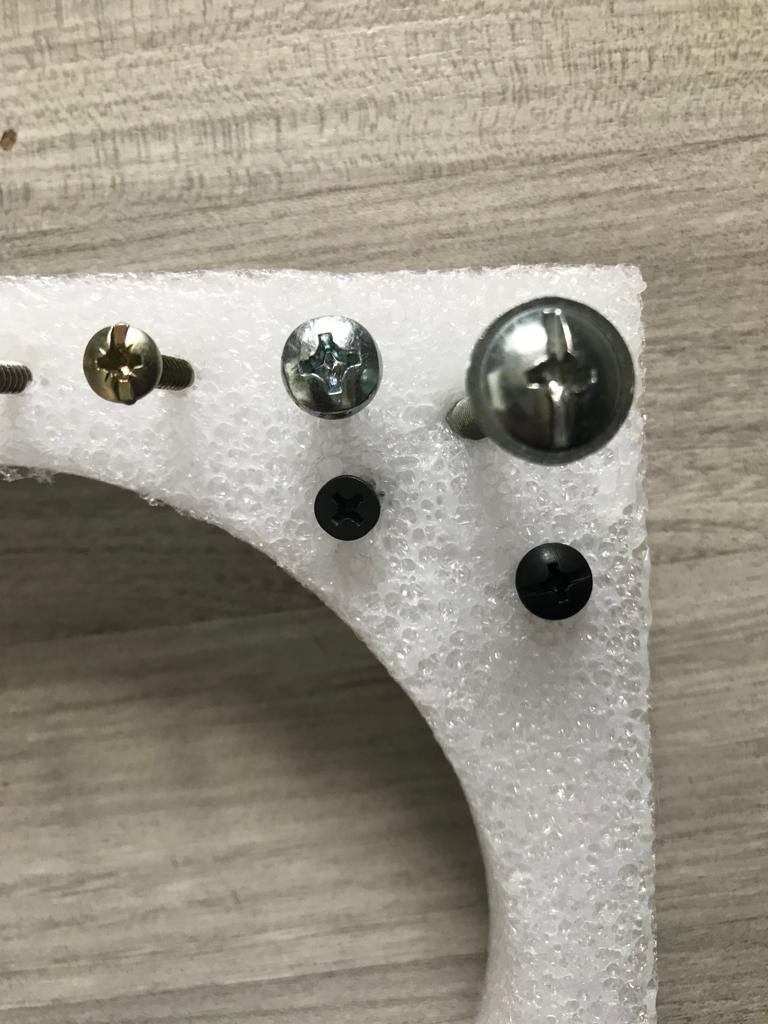PH: (465, 295, 637, 465), (281, 314, 382, 415), (82, 324, 158, 404), (516, 544, 594, 621), (313, 476, 381, 540)
